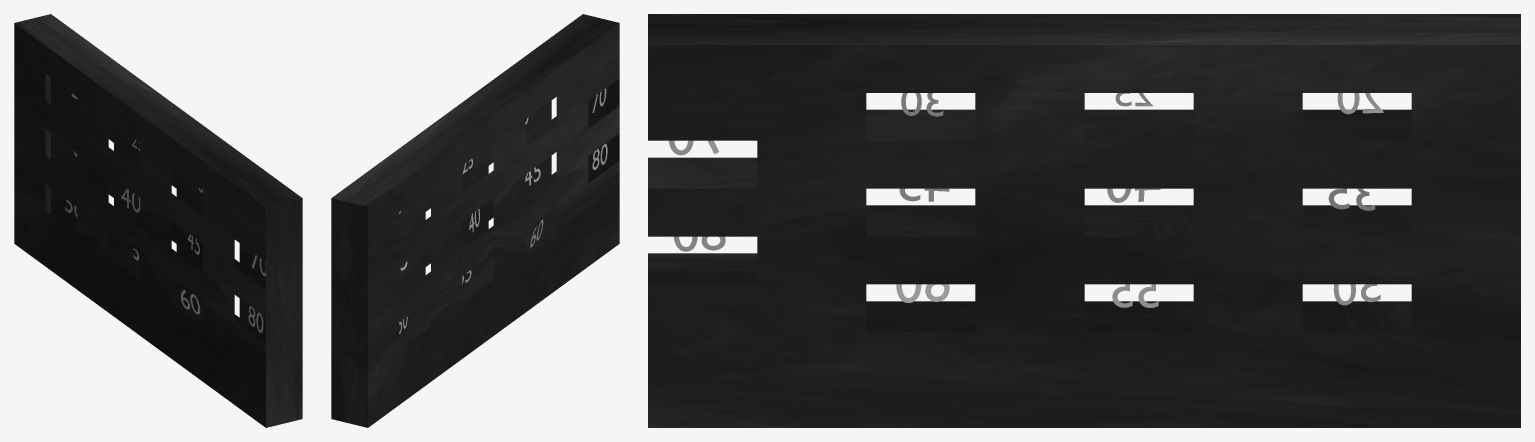
Rendered from finalTarget.obj.
3 views of the same model, side by side, from view 1: azimuth 30°, elevation 25°; view 2: azimuth 150°, elevation 25°; view 3: azimuth 270°, elevation 25° (orthographic). The views are drawn at different scales.
Visible parts, largest first — view 1: Cube; view 2: Cube; view 3: Cube.
Boxes of the visible parts, bbox=[...] form: Cube: bbox=[14, 14, 302, 427]; Cube: bbox=[331, 14, 619, 427]; Cube: bbox=[648, 14, 1520, 427].
Bounding box in the file's own units: 10.45 × 60.18 × 124.
